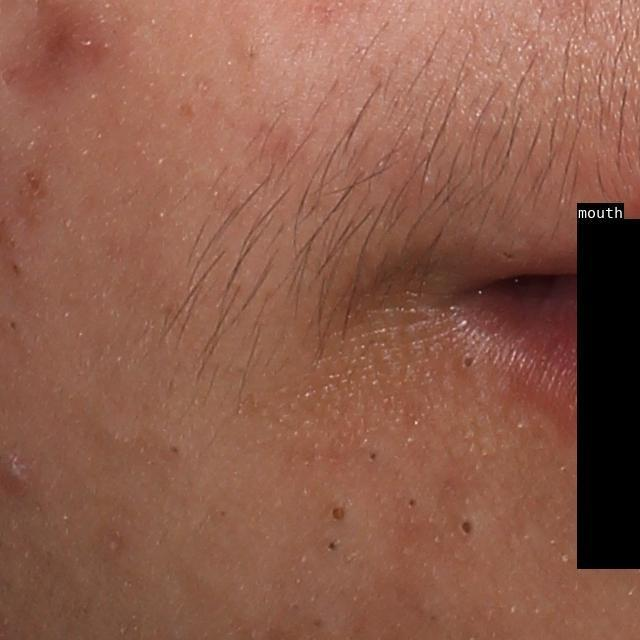comedo: (453, 347, 485, 376), (455, 512, 483, 542), (1, 309, 25, 340), (325, 502, 349, 526), (322, 534, 342, 551), (168, 439, 184, 459), (366, 448, 383, 460)
